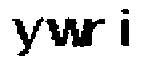i: (115, 7, 140, 53)
r: (86, 17, 107, 47)
w: (46, 15, 85, 50)
y: (11, 16, 46, 58)
